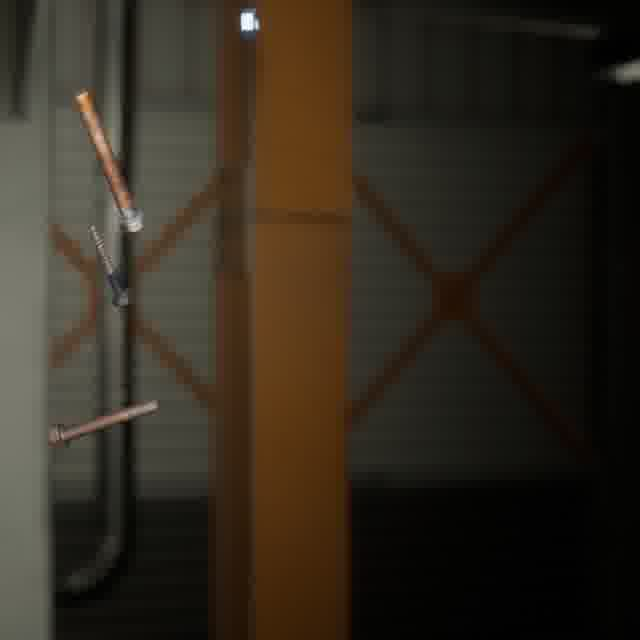bolt: (68, 84, 150, 237), (45, 393, 165, 454), (84, 218, 137, 311)
nut: (236, 3, 264, 44)
